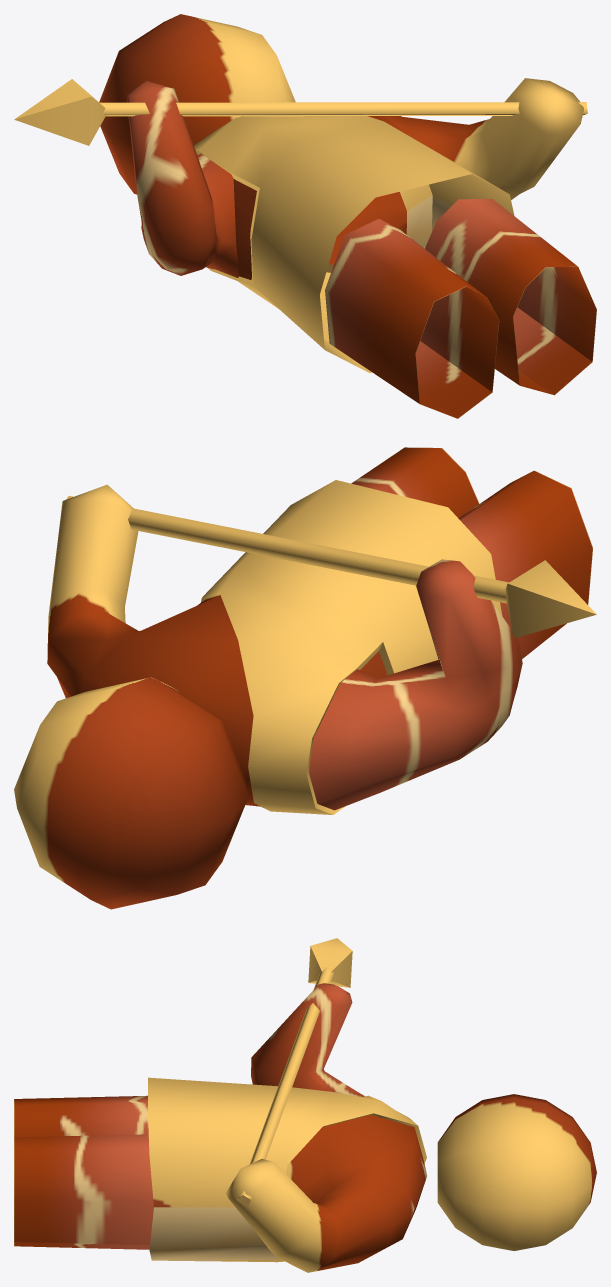
File: Thinhuman.fbx
The picture shows the model from 3 angles, top to bottom: view 1: azimuth 30°, elevation 25°; view 2: azimuth 150°, elevation 25°; view 3: azimuth 270°, elevation 25°; orthographic projection. The views are drawn at different scales.
Parts seen in each view (by area): view 1: Shum; view 2: Shum; view 3: Shum.
Part boxes in pixels (x1,y1,x2,y2): Shum: (14,14,596,418); Shum: (14,447,596,909); Shum: (14,938,596,1272).
Size of the model in its own units: 137 by 65.68 by 165.
